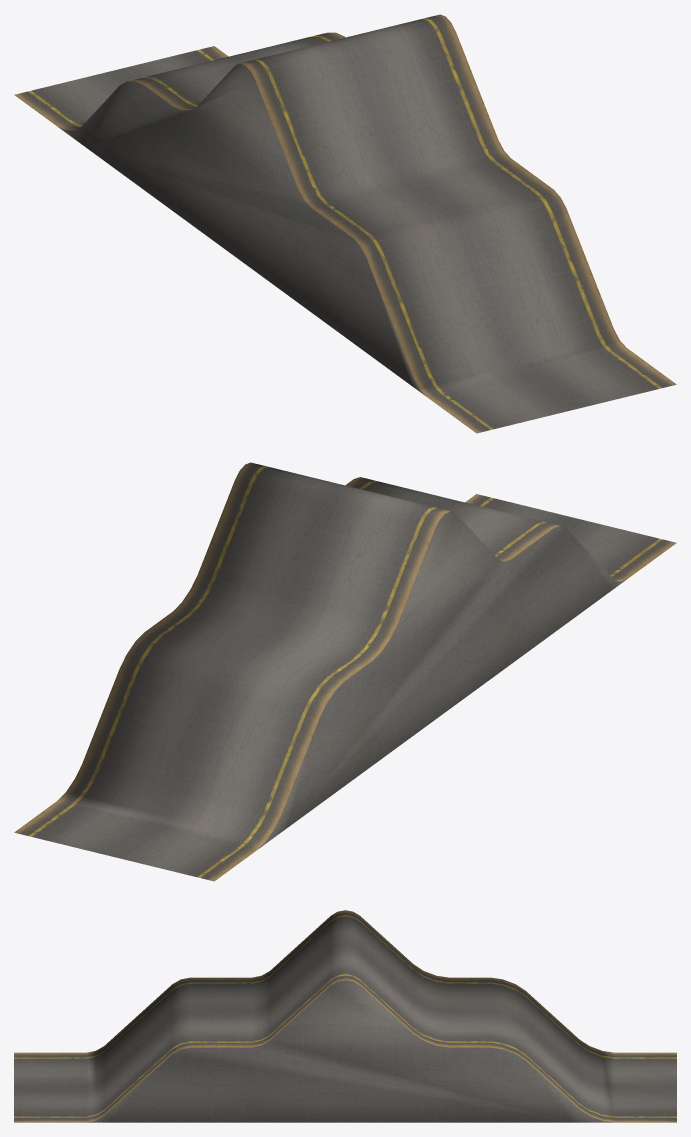
The model's file is road.102.fbx.
3 renders of one model, top to bottom at view 1: azimuth 30°, elevation 25°; view 2: azimuth 150°, elevation 25°; view 3: azimuth 270°, elevation 25°, orthographic. The views are drawn at different scales.
Parts seen in each view (by area): view 1: Plane_004; view 2: Plane_004; view 3: Plane_004.
Part boxes in pixels (<box>): Plane_004: <box>14,14,676,433</box>; Plane_004: <box>14,462,676,881</box>; Plane_004: <box>14,910,676,1122</box>.
Size of the model in its own units: 8 by 7.59 by 32.
